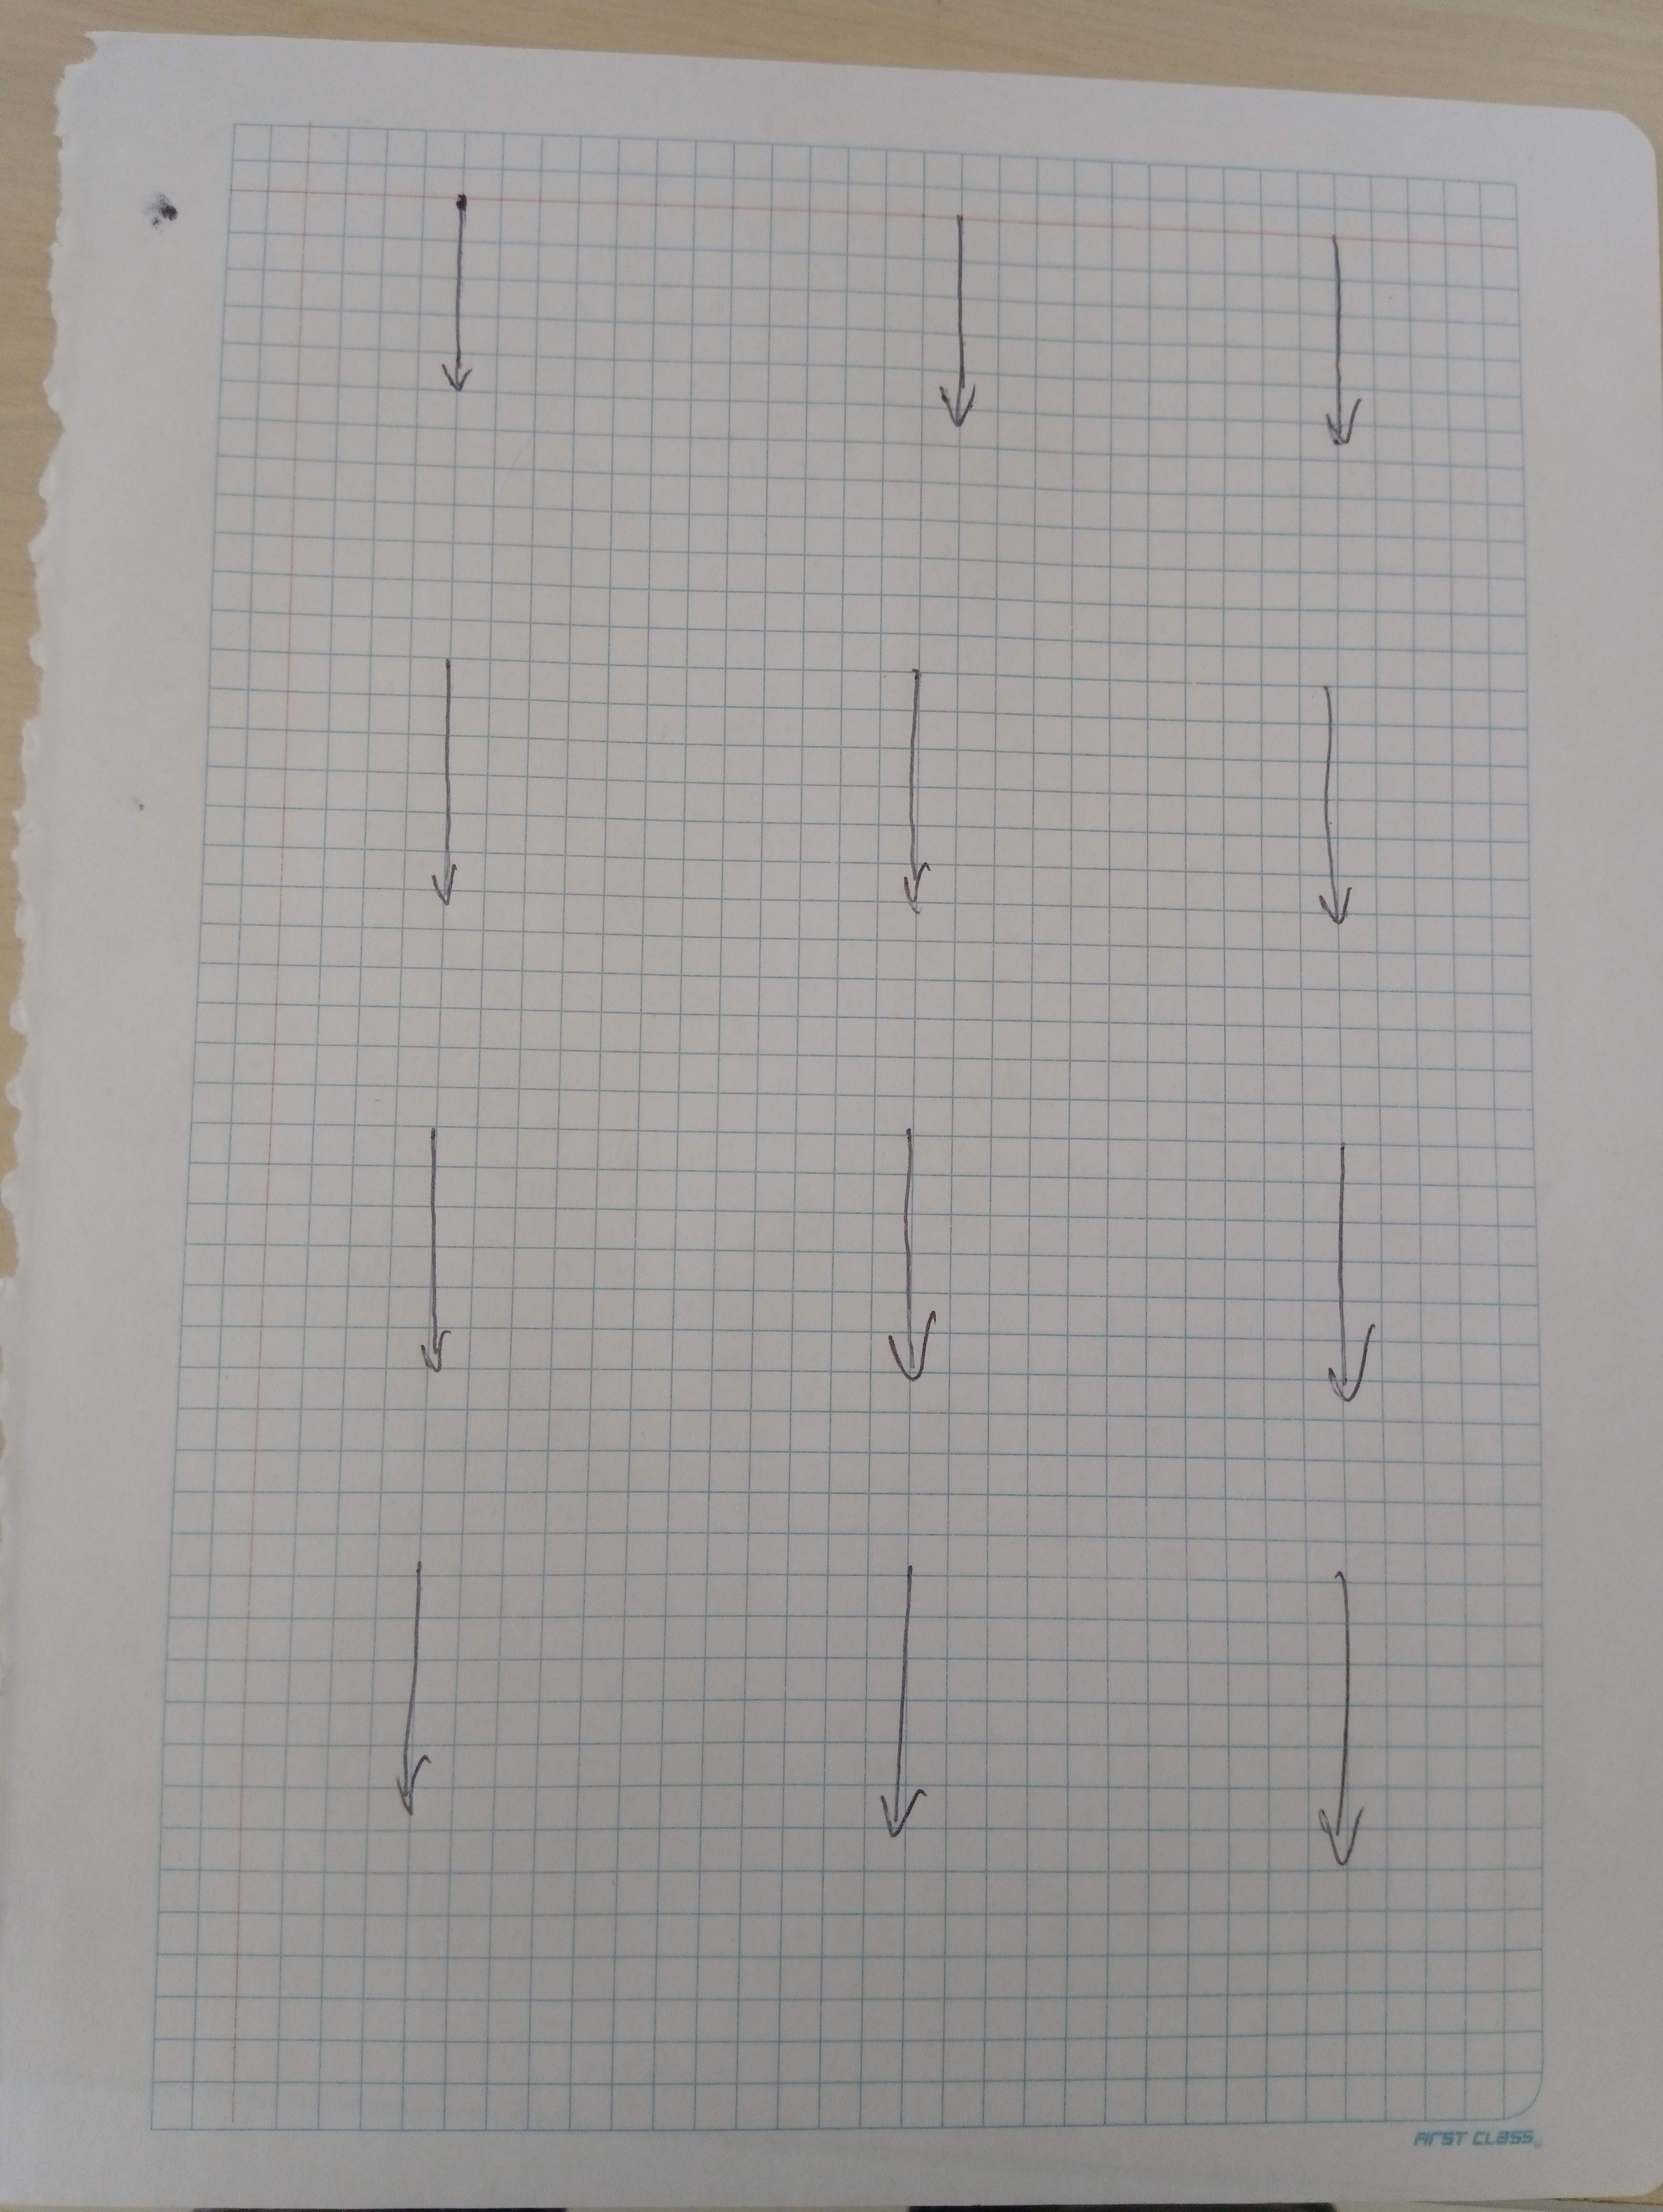arrow_line_down: (868, 1114, 975, 1407), (384, 1114, 491, 1384), (1301, 1145, 1404, 1425), (1286, 677, 1378, 955), (875, 1549, 956, 1844), (414, 178, 508, 424), (1312, 1564, 1382, 1884), (919, 211, 1008, 452), (875, 662, 956, 911), (372, 1542, 442, 1814), (1305, 234, 1382, 475), (414, 658, 479, 901)
